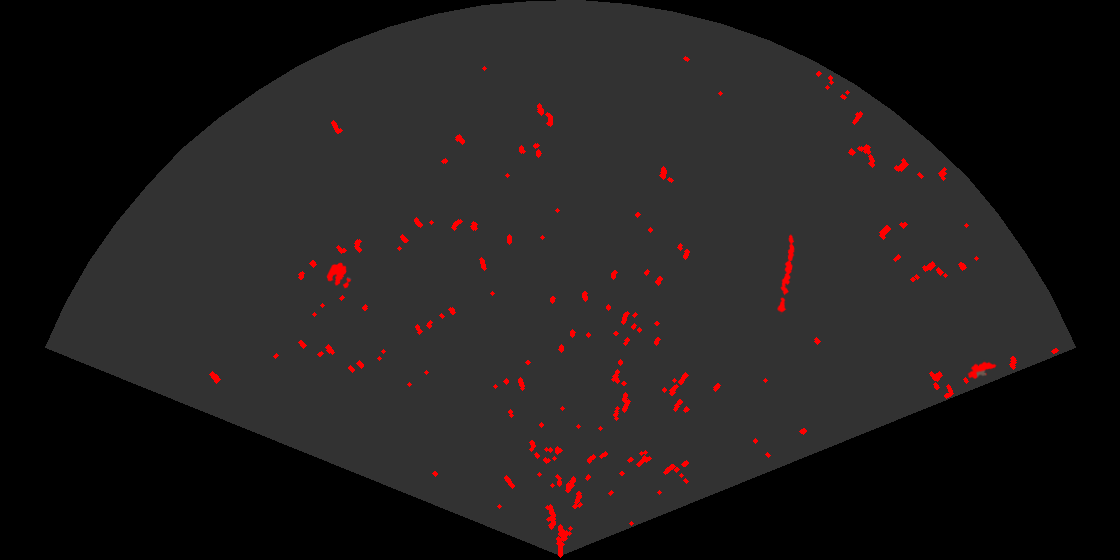AUV: (966, 359, 998, 381)
ball: (325, 261, 353, 290)
chain: (776, 232, 796, 315)
